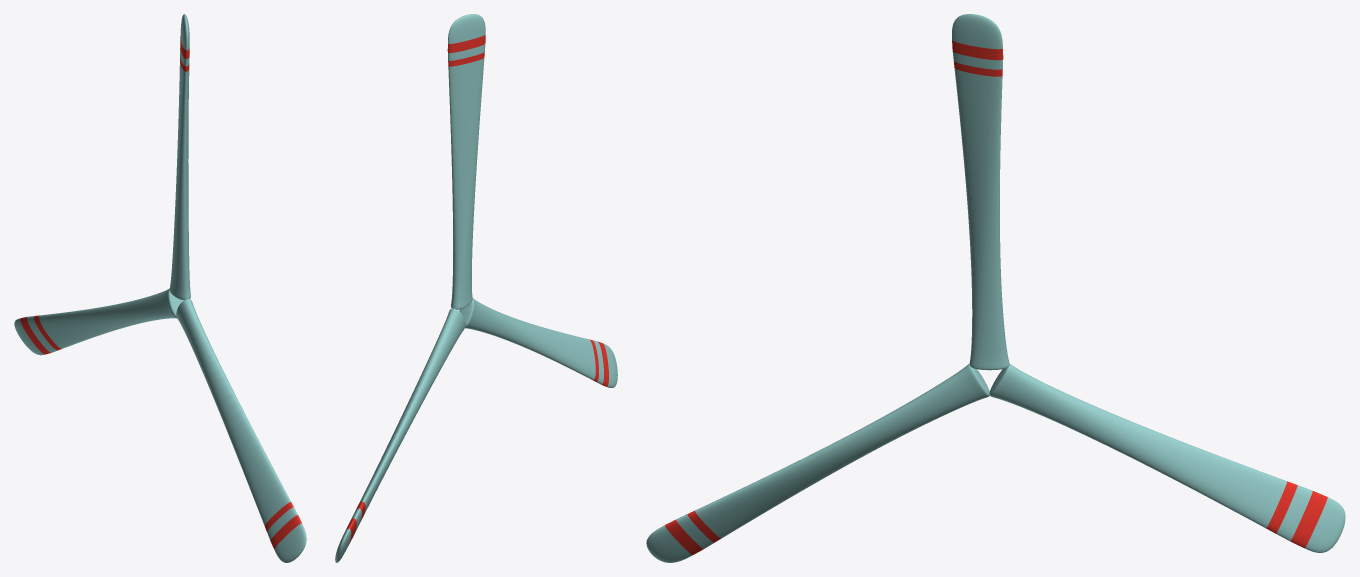
File: Wing.fbx
3 views of the same model, side by side, from view 1: azimuth 30°, elevation 25°; view 2: azimuth 150°, elevation 25°; view 3: azimuth 270°, elevation 25° (orthographic). The views are drawn at different scales.
Parts seen in each view (by area): view 1: Wings; view 2: Wings; view 3: Wings.
Boxes of the visible parts, x1,y1,x2,y2 form: Wings: (14, 14, 306, 562); Wings: (335, 14, 617, 562); Wings: (646, 14, 1345, 562).
Bounding box in the file's own units: 90.15 × 1126 × 1268.
